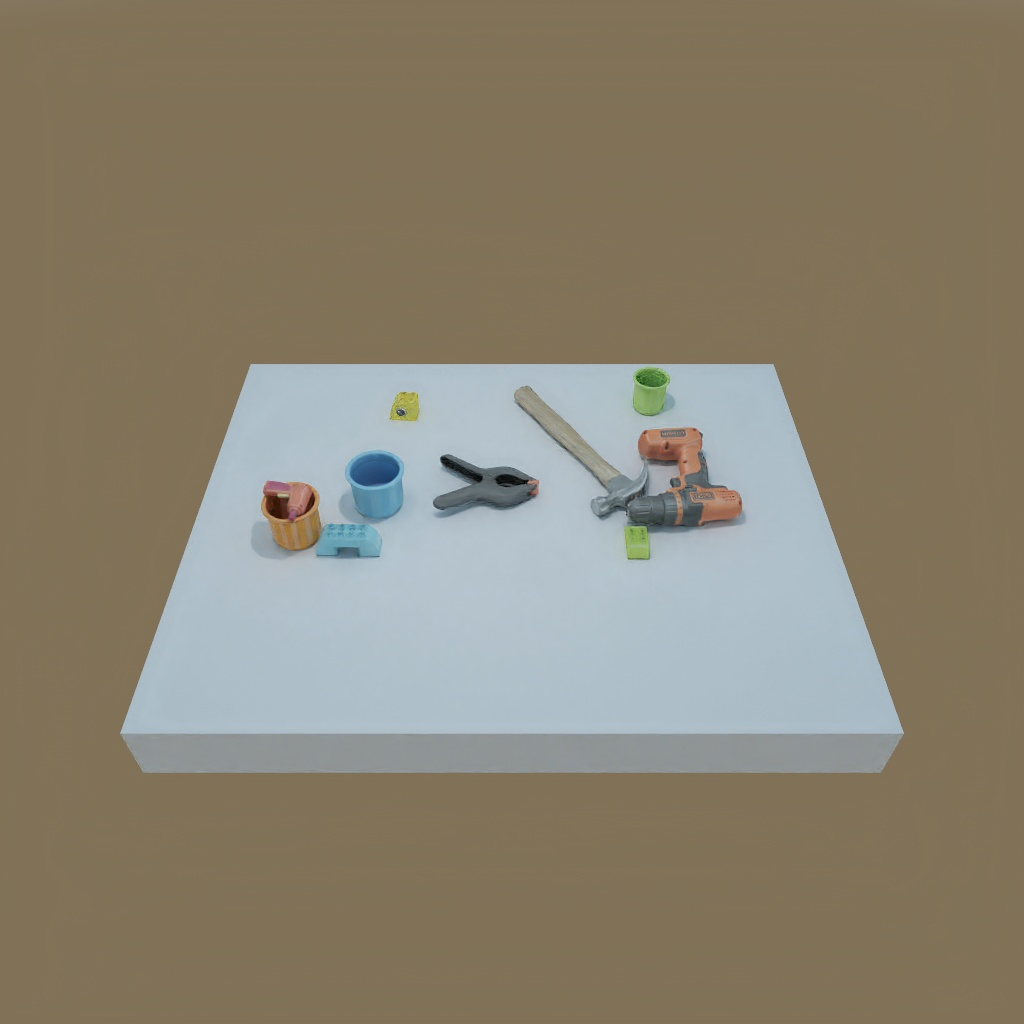hammer: (515, 385, 654, 517)
power_drill: (629, 435, 739, 528)
